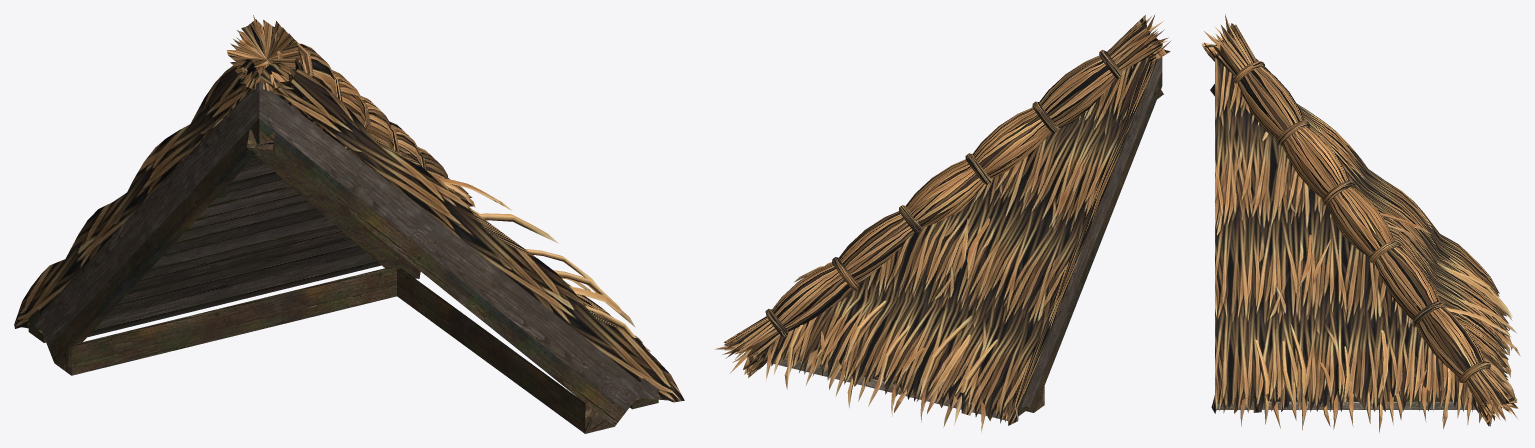
The picture shows the model from 3 angles, left to right: view 1: azimuth 30°, elevation 25°; view 2: azimuth 150°, elevation 25°; view 3: azimuth 270°, elevation 25°; orthographic projection. The views are drawn at different scales.
Visible parts, largest first — view 1: SM_BB_T1_Extended_Roof_Large_Hip_LOD0; view 2: SM_BB_T1_Extended_Roof_Large_Hip_LOD0; view 3: SM_BB_T1_Extended_Roof_Large_Hip_LOD0.
Boxes of the visible parts, <box> form: SM_BB_T1_Extended_Roof_Large_Hip_LOD0: <box>14,15,684,433</box>; SM_BB_T1_Extended_Roof_Large_Hip_LOD0: <box>714,15,1170,432</box>; SM_BB_T1_Extended_Roof_Large_Hip_LOD0: <box>1201,14,1520,432</box>.
Bounding box in the file's own units: 4.01 × 4.12 × 4.03.
3 materials, 3 textured.
